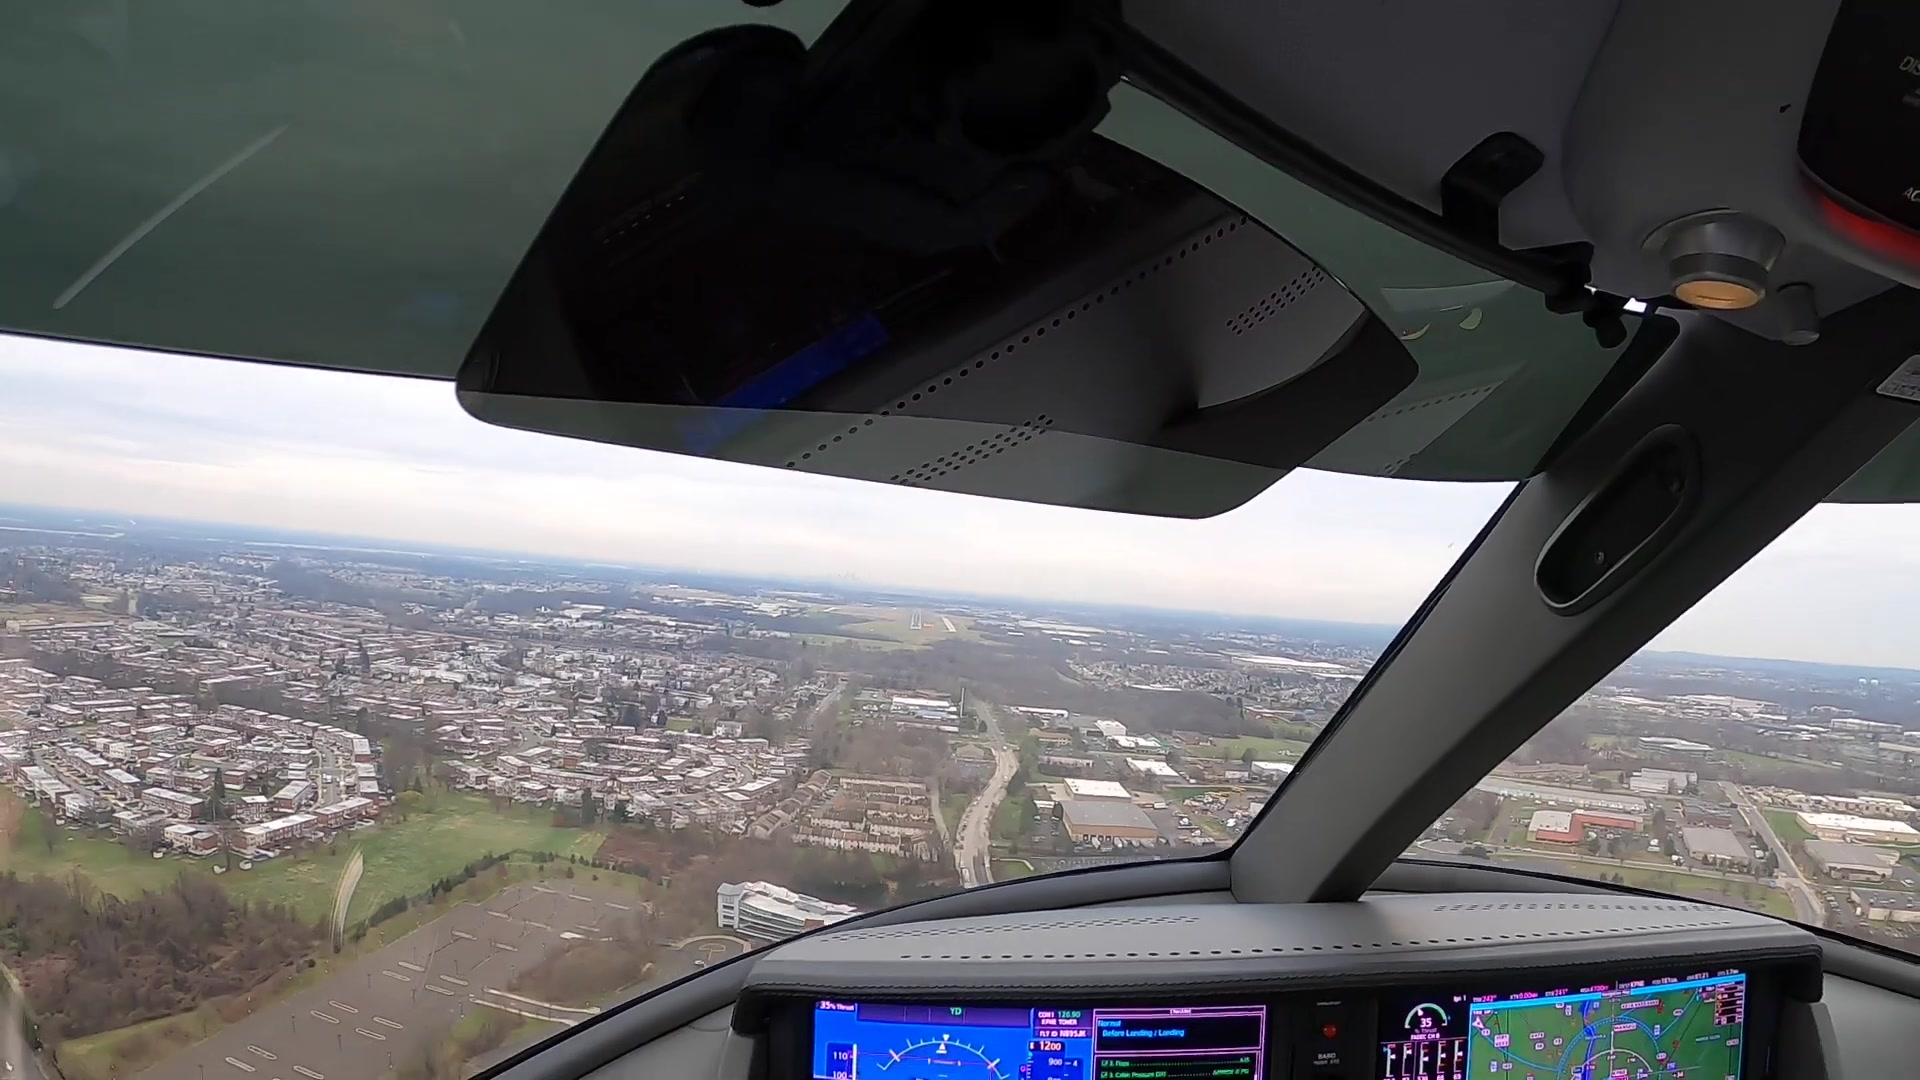runway: (909, 607, 924, 632)
